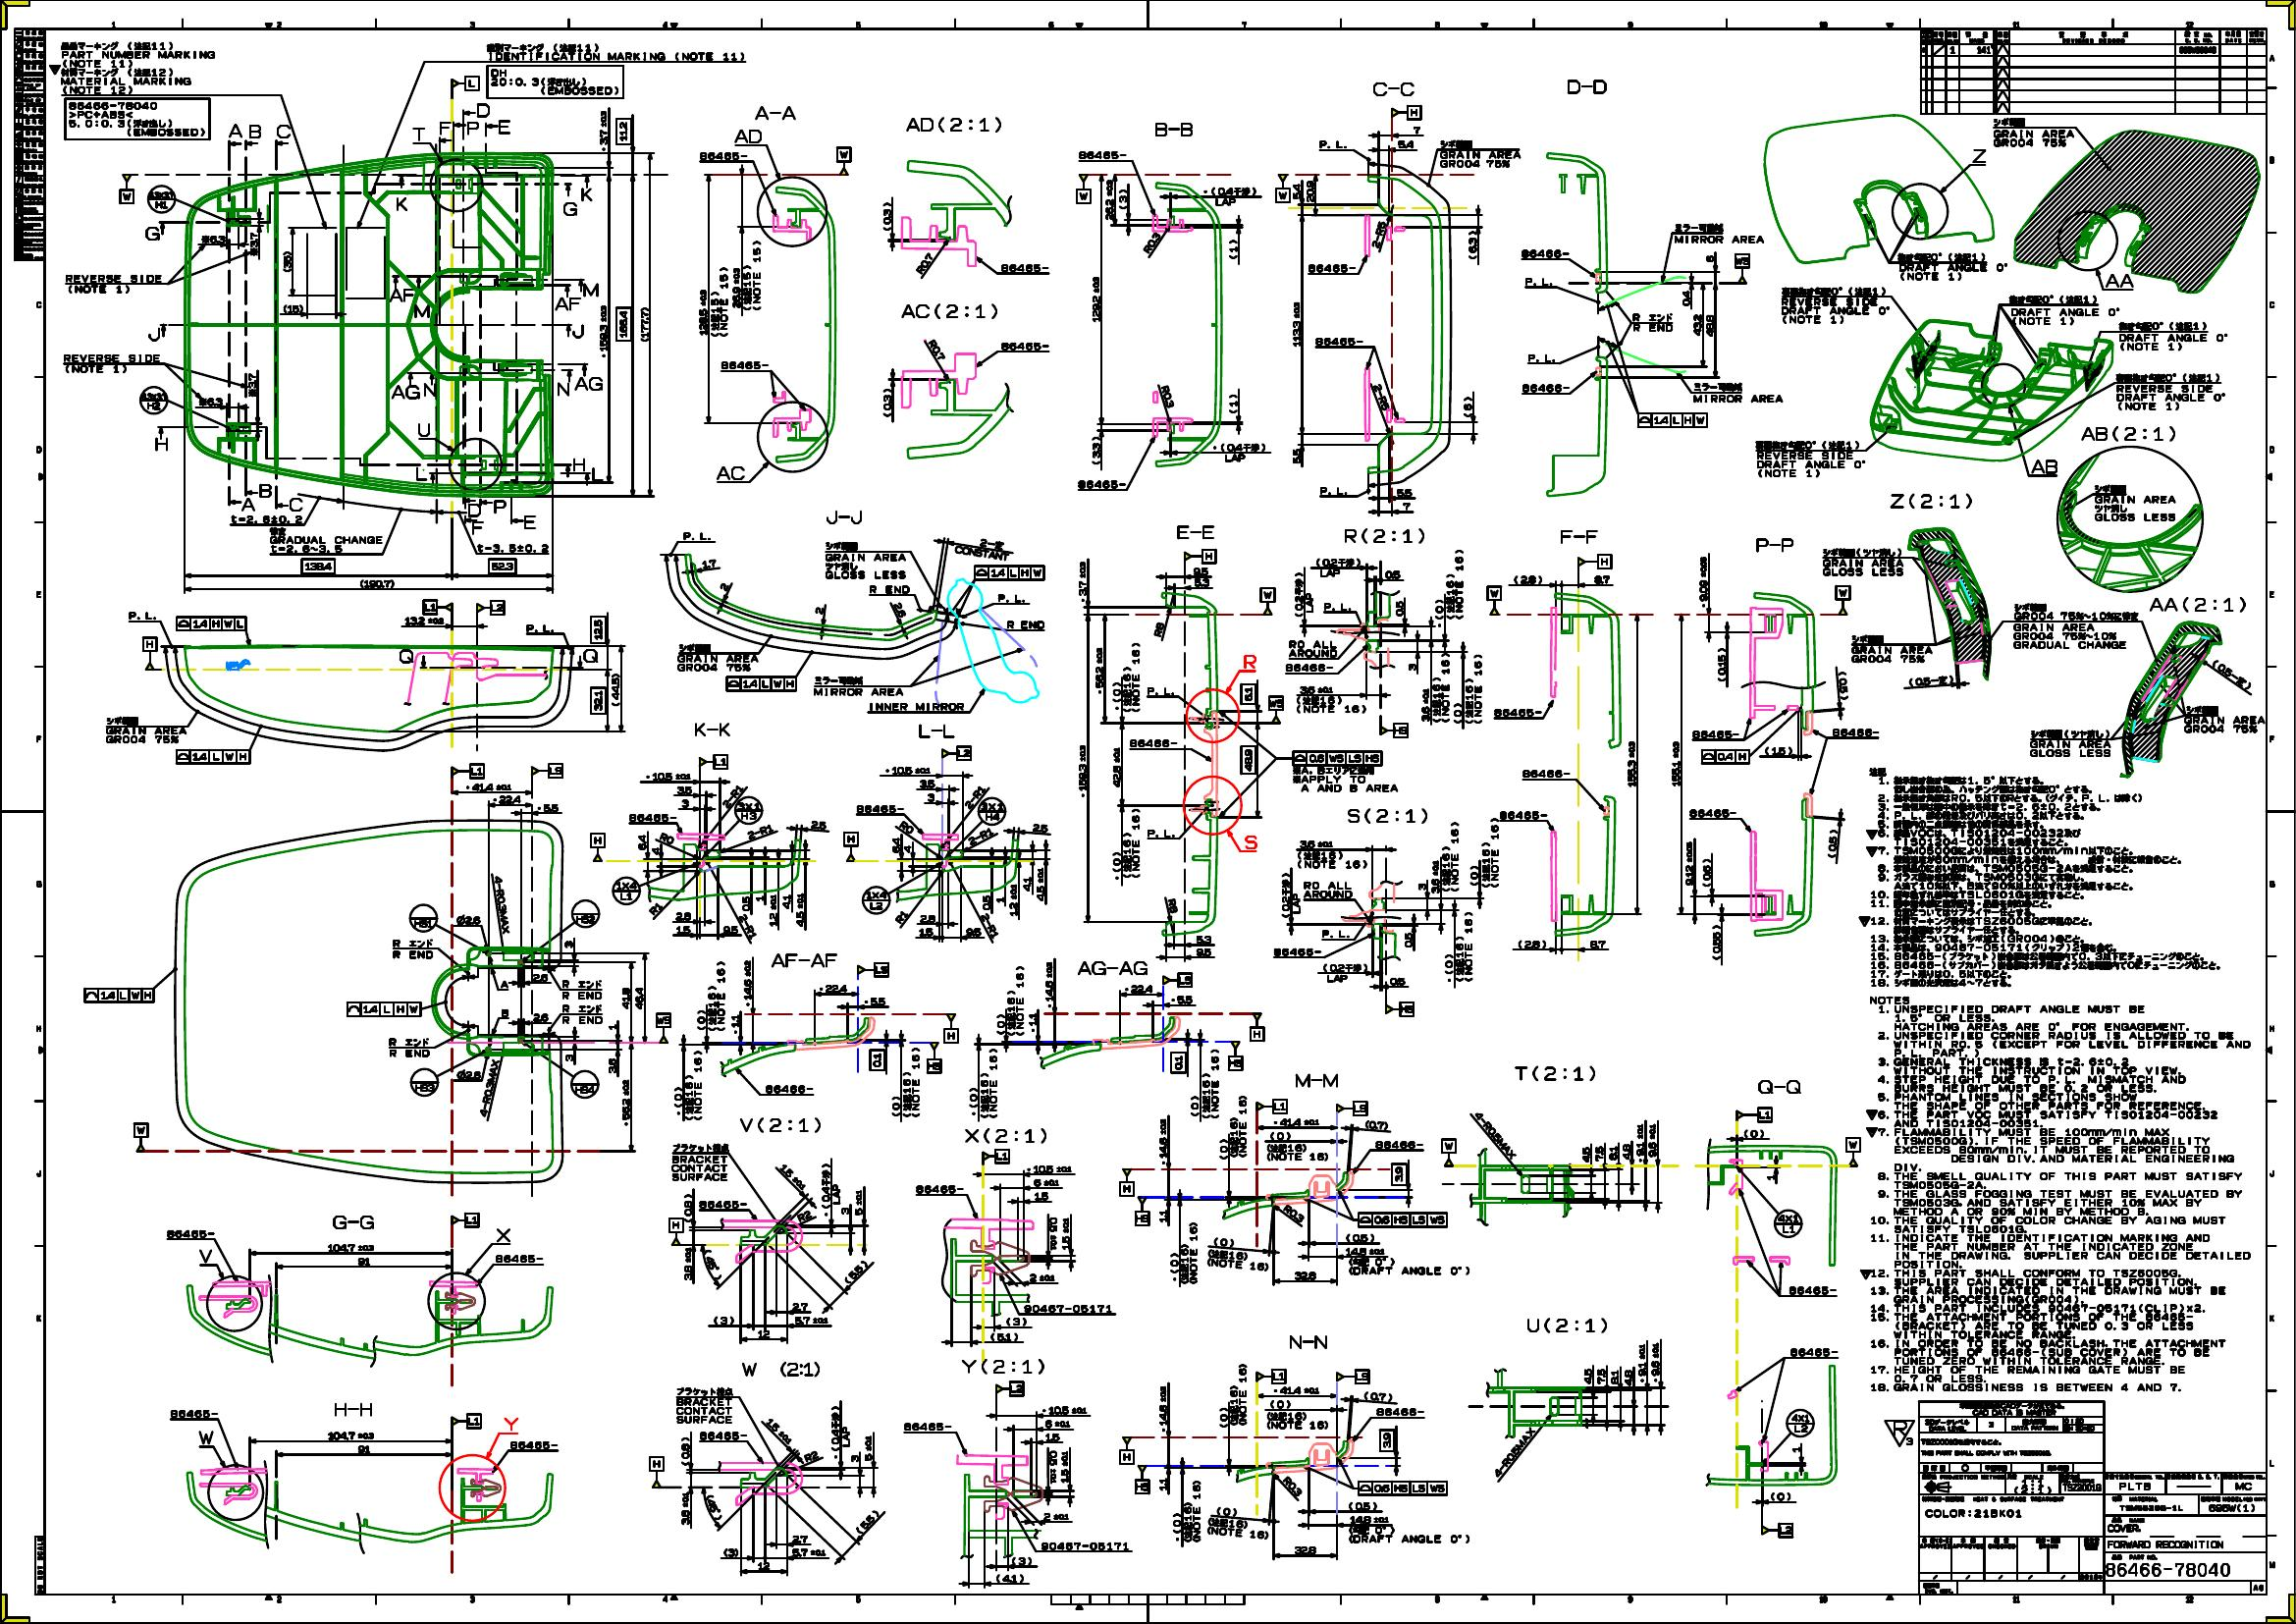anntotation_text: (1864, 995, 2256, 1394), (1855, 763, 2224, 991), (60, 40, 218, 144), (483, 39, 750, 63), (2013, 601, 2141, 650), (1751, 438, 1867, 482), (1780, 283, 1890, 329), (2113, 371, 2231, 413), (483, 62, 624, 97), (2003, 290, 2122, 330), (1894, 251, 2010, 285), (2117, 320, 2231, 353), (2090, 483, 2177, 524), (826, 540, 906, 580), (269, 526, 383, 554), (63, 271, 163, 302), (61, 348, 158, 380), (673, 642, 762, 673), (1293, 766, 1400, 793), (1848, 631, 1932, 664), (1347, 1255, 1479, 1276), (1439, 137, 1521, 170), (1992, 116, 2075, 149), (2076, 422, 2180, 448), (2025, 726, 2112, 758), (2184, 703, 2266, 735), (898, 299, 1003, 323), (899, 112, 1003, 137), (1820, 547, 1903, 576), (1346, 1526, 1472, 1545), (669, 1142, 729, 1183), (1690, 380, 1785, 404), (105, 715, 188, 743), (675, 1385, 734, 1424), (812, 673, 905, 698), (2147, 592, 2247, 615), (1513, 1060, 1599, 1086), (1887, 490, 1976, 515), (1674, 221, 1764, 244), (1340, 526, 1426, 548), (956, 1357, 1047, 1378), (738, 1116, 826, 1137), (1523, 1313, 1609, 1334), (704, 958, 729, 1030), (1444, 547, 1467, 620), (1263, 1408, 1332, 1432), (738, 1359, 824, 1378), (1200, 1048, 1223, 1120), (1479, 817, 1502, 888), (769, 951, 840, 974), (1358, 1211, 1449, 1229), (957, 1127, 1049, 1144), (1005, 965, 1026, 1040), (1075, 958, 1151, 979), (1291, 749, 1381, 766), (708, 264, 729, 337), (1298, 849, 1372, 870), (1121, 640, 1142, 714), (978, 1044, 1000, 1118), (1265, 1141, 1332, 1164), (683, 1049, 704, 1121), (1205, 1251, 1267, 1276), (1347, 807, 1425, 826), (1121, 807, 1142, 877), (1356, 1480, 1448, 1496), (1200, 183, 1258, 207), (1455, 910, 1474, 984), (1296, 696, 1370, 715), (817, 1160, 841, 1218), (1440, 819, 1460, 891), (1463, 652, 1483, 724), (1430, 652, 1449, 722), (743, 237, 761, 313), (346, 1000, 422, 1018), (1212, 439, 1270, 462), (1880, 1415, 1917, 1450), (1207, 1517, 1268, 1538), (1228, 1093, 1247, 1160), (956, 534, 1012, 557), (726, 675, 798, 692), (903, 1046, 921, 1118), (829, 1404, 852, 1459), (1753, 1076, 1806, 1098), (1230, 1359, 1247, 1427), (1182, 1476, 1200, 1545), (1180, 1218, 1198, 1285), (1312, 554, 1360, 578), (1303, 877, 1354, 900), (329, 1209, 379, 1232), (1038, 1540, 1131, 1552), (750, 100, 799, 123), (1291, 571, 1316, 617), (1284, 1329, 1333, 1352), (406, 1067, 441, 1098), (866, 700, 970, 710), (1368, 76, 1416, 98), (1321, 960, 1368, 982), (973, 564, 1042, 580), (1565, 74, 1609, 98), (137, 383, 169, 417), (386, 1035, 432, 1058), (1151, 120, 1200, 141), (1286, 638, 1339, 657), (83, 986, 155, 1000), (408, 900, 439, 932), (1021, 1302, 1116, 1313), (1771, 1207, 1804, 1237), (1637, 411, 1708, 425), (1291, 1069, 1342, 1088), (176, 615, 244, 629), (390, 939, 436, 960), (560, 977, 603, 1000), (146, 183, 177, 213), (569, 1067, 599, 1098), (1783, 1408, 1815, 1438), (1279, 874, 1300, 917), (560, 1004, 604, 1025), (1750, 534, 1797, 554), (466, 898, 539, 910), (610, 875, 639, 905), (569, 898, 599, 928), (1463, 1128, 1527, 1142), (1484, 1445, 1548, 1459), (453, 1083, 525, 1095), (822, 508, 868, 527), (177, 749, 248, 761), (977, 796, 1007, 824), (863, 884, 891, 914), (733, 796, 762, 824), (1630, 311, 1672, 330), (1173, 522, 1216, 541), (1700, 749, 1750, 765), (330, 1401, 374, 1418), (1312, 334, 1367, 348), (1827, 724, 1881, 738), (692, 721, 731, 740), (1075, 476, 1128, 490), (2025, 455, 2061, 476), (1374, 1137, 1426, 1151), (998, 339, 1049, 353), (697, 1195, 748, 1209), (901, 1418, 952, 1432), (1787, 1345, 1845, 1357), (1497, 810, 1551, 823), (163, 1227, 218, 1239), (915, 722, 957, 738), (35, 1534, 46, 1596), (996, 260, 1049, 272), (1077, 148, 1130, 160), (1518, 381, 1570, 394), (1491, 705, 1544, 717), (508, 1439, 560, 1452), (448, 1411, 485, 1429), (167, 1406, 220, 1418), (1558, 527, 1599, 543), (1521, 248, 1572, 260), (913, 1183, 964, 1195), (495, 1251, 546, 1264), (1374, 1404, 1425, 1417), (697, 1429, 748, 1441), (1688, 807, 1739, 819), (1734, 1107, 1773, 1123), (699, 149, 748, 162), (722, 359, 771, 371), (1274, 944, 1323, 956), (715, 464, 748, 482), (141, 634, 158, 668), (1788, 1285, 1836, 1297), (762, 1083, 817, 1093), (868, 582, 913, 594), (1384, 1000, 1416, 1018), (531, 763, 562, 780), (1133, 1195, 1151, 1227), (980, 1146, 1012, 1164), (1003, 619, 1047, 631), (1690, 729, 1741, 740), (1128, 738, 1179, 749), (856, 803, 906, 814), (2103, 272, 2136, 288), (1760, 1522, 1794, 1538), (1337, 1367, 1370, 1383), (450, 74, 480, 91), (841, 831, 859, 861), (926, 1042, 943, 1072), (1254, 1366, 1284, 1383), (994, 1380, 1024, 1397), (1307, 262, 1356, 272), (1312, 137, 1349, 151), (629, 812, 678, 823), (1333, 1102, 1370, 1116), (1075, 172, 1091, 204), (942, 743, 973, 759), (450, 1213, 481, 1229), (648, 1455, 664, 1487), (1117, 1167, 1135, 1195), (1275, 172, 1291, 202), (655, 1012, 671, 1042), (857, 961, 887, 977), (1133, 1464, 1149, 1494), (1834, 587, 1850, 617), (1318, 483, 1351, 497), (1734, 251, 1748, 285), (1184, 548, 1217, 562), (450, 763, 483, 777), (1254, 1098, 1288, 1113), (736, 127, 762, 144), (1520, 768, 1572, 777), (272, 121, 293, 142), (411, 301, 432, 322), (1579, 554, 1611, 568), (1260, 587, 1275, 615), (476, 599, 504, 615), (422, 599, 453, 613), (134, 1123, 149, 1151), (1228, 1040, 1242, 1072), (1440, 1139, 1456, 1167), (1523, 274, 1558, 286), (1391, 105, 1421, 120), (1486, 585, 1500, 615), (1321, 926, 1351, 940), (1163, 974, 1193, 988), (1846, 1135, 1860, 1165), (668, 1216, 682, 1246), (1381, 722, 1407, 738), (1268, 696, 1284, 722), (121, 172, 134, 206), (1527, 352, 1560, 364), (1145, 684, 1179, 696), (144, 325, 163, 346), (1969, 144, 1989, 165), (494, 1225, 515, 1244), (197, 1244, 216, 1265), (499, 1413, 518, 1434), (590, 833, 604, 861), (943, 1014, 957, 1042), (1249, 1014, 1263, 1042), (1119, 1436, 1133, 1464), (699, 754, 727, 768), (1144, 826, 1175, 838), (996, 591, 1028, 603), (682, 529, 713, 541), (1281, 664, 1335, 671), (144, 223, 162, 244), (1319, 599, 1354, 610), (469, 518, 487, 538), (587, 374, 604, 394), (404, 383, 422, 402), (415, 420, 432, 439), (569, 322, 587, 341), (580, 281, 599, 299), (553, 295, 571, 315), (1240, 652, 1258, 671), (153, 434, 169, 455), (497, 116, 513, 137), (838, 144, 848, 176), (523, 624, 555, 634), (128, 610, 158, 620), (581, 647, 599, 664), (197, 1429, 214, 1446), (466, 501, 481, 520), (573, 374, 588, 394), (422, 380, 437, 399), (411, 125, 427, 144), (560, 200, 580, 216), (260, 482, 274, 503), (286, 497, 304, 513), (522, 513, 538, 531), (555, 380, 571, 397), (388, 383, 406, 399), (399, 286, 416, 302), (474, 98, 490, 116), (397, 649, 415, 664), (388, 285, 402, 304), (437, 118, 451, 137), (228, 121, 244, 137), (246, 123, 262, 139), (464, 120, 480, 135), (239, 497, 256, 511), (1244, 833, 1258, 851), (395, 193, 408, 213), (492, 499, 508, 513), (571, 457, 587, 471), (566, 295, 581, 309), (580, 186, 594, 202), (415, 466, 429, 482), (590, 466, 604, 482), (499, 979, 511, 990), (499, 1007, 511, 1018)
dimension_text: (474, 540, 550, 554), (228, 513, 304, 524), (1075, 742, 1089, 798), (1903, 675, 1953, 689), (1272, 1381, 1321, 1396), (596, 302, 608, 359), (1697, 554, 1709, 608), (1042, 1403, 1089, 1417), (1669, 736, 1681, 789), (1091, 643, 1103, 696), (741, 958, 754, 1009), (696, 286, 708, 337), (1418, 685, 1433, 724), (1156, 1383, 1168, 1432), (729, 264, 741, 313), (615, 306, 632, 339), (1110, 743, 1123, 791), (1108, 847, 1124, 884), (2210, 668, 2250, 682), (358, 575, 397, 589), (402, 613, 446, 626), (302, 559, 336, 575), (1238, 745, 1256, 775), (1043, 960, 1054, 1009), (620, 1077, 631, 1127), (1158, 1116, 1168, 1165), (327, 1243, 376, 1253), (1058, 1446, 1072, 1483), (1683, 838, 1693, 888), (645, 770, 694, 780), (884, 765, 931, 775), (327, 1431, 374, 1441), (1089, 274, 1100, 322), (1289, 301, 1300, 348), (1516, 935, 1548, 951), (1344, 1244, 1384, 1257), (1428, 856, 1440, 896), (588, 685, 606, 714), (488, 557, 516, 575), (1365, 390, 1400, 404), (597, 107, 608, 153), (1836, 668, 1850, 701), (1440, 953, 1455, 986), (615, 118, 632, 144), (1103, 178, 1114, 221), (1077, 561, 1087, 605), (1298, 835, 1335, 847), (682, 1244, 694, 1281), (1709, 923, 1722, 960), (1270, 1116, 1321, 1125), (1627, 738, 1635, 789), (590, 615, 606, 643), (1635, 1341, 1646, 1383), (1650, 1341, 1660, 1383), (1363, 1388, 1395, 1403), (1347, 1513, 1390, 1524), (464, 782, 513, 791), (773, 1171, 808, 1183), (678, 1490, 690, 1526), (1716, 643, 1727, 684), (697, 1499, 727, 1513), (817, 982, 850, 995), (682, 1192, 694, 1225), (1467, 228, 1479, 262), (766, 895, 778, 928), (792, 893, 805, 926), (1059, 1213, 1070, 1251), (1047, 1214, 1058, 1253), (639, 306, 650, 344), (1170, 1051, 1188, 1074), (1026, 1165, 1072, 1174), (1344, 1232, 1375, 1244), (792, 1315, 829, 1325), (791, 1547, 827, 1557), (678, 1436, 690, 1468), (759, 1425, 796, 1436), (1511, 573, 1548, 584), (1008, 882, 1019, 917), (1035, 866, 1045, 902), (455, 912, 481, 926), (611, 671, 622, 707), (1767, 1489, 1794, 1503), (1379, 1429, 1397, 1450), (1047, 1450, 1058, 1485), (1149, 390, 1184, 401), (1700, 856, 1711, 891), (1449, 698, 1463, 724), (994, 1571, 1024, 1584), (1042, 1508, 1072, 1520), (880, 387, 892, 417), (1363, 228, 1393, 241), (1391, 1162, 1407, 1185), (1212, 1234, 1235, 1250), (1240, 682, 1256, 705), (1298, 684, 1339, 692), (1170, 1510, 1180, 1543), (882, 199, 892, 232), (1110, 680, 1121, 714), (1743, 1127, 1767, 1141), (1028, 1271, 1056, 1283), (246, 230, 258, 258), (1634, 1123, 1643, 1162), (490, 793, 522, 803), (989, 1330, 1021, 1341), (1089, 434, 1100, 466), (1760, 743, 1792, 754), (717, 789, 748, 800), (1648, 1123, 1657, 1160), (1363, 1120, 1390, 1132), (1226, 236, 1238, 262), (1303, 178, 1316, 204), (1123, 982, 1152, 993), (1168, 1251, 1179, 1281), (697, 1258, 727, 1269), (921, 344, 950, 355), (1825, 828, 1836, 858), (745, 826, 775, 837), (1279, 1480, 1303, 1492), (1188, 1093, 1200, 1118), (863, 995, 887, 1007), (632, 986, 645, 1011), (618, 986, 631, 1011), (457, 1067, 481, 1079), (711, 1313, 736, 1325), (1217, 1404, 1230, 1429), (1138, 237, 1163, 250), (1226, 390, 1238, 415), (870, 1049, 884, 1070), (1031, 1176, 1059, 1186), (892, 599, 906, 620), (733, 923, 761, 933), (673, 1084, 682, 1118), (1435, 598, 1444, 631), (789, 1531, 812, 1543), (281, 251, 293, 274), (1460, 395, 1472, 418), (968, 1086, 977, 1118), (1291, 1269, 1318, 1280), (1268, 1397, 1295, 1408), (1216, 1506, 1242, 1517), (1045, 1418, 1072, 1429), (854, 1517, 880, 1527), (908, 262, 940, 271), (1469, 861, 1479, 888), (959, 793, 989, 801), (1347, 1501, 1377, 1510), (996, 1012, 1007, 1037), (536, 801, 560, 812), (1219, 1137, 1230, 1162), (1281, 1207, 1305, 1218), (1003, 1315, 1028, 1325), (1293, 1545, 1318, 1555), (199, 395, 223, 406), (1386, 975, 1411, 986), (1193, 933, 1214, 946), (975, 921, 1003, 930), (854, 1188, 863, 1216), (841, 1267, 870, 1276), (863, 1434, 871, 1462), (1170, 993, 1193, 1004), (1010, 1555, 1033, 1566), (1692, 313, 1702, 336), (1154, 617, 1165, 640), (1026, 1012, 1038, 1032), (1191, 564, 1210, 576), (966, 831, 993, 840), (248, 373, 256, 399), (1704, 313, 1713, 339), (281, 302, 302, 313), (1116, 188, 1126, 209), (655, 831, 676, 842), (1021, 875, 1033, 893), (891, 1093, 899, 1118), (696, 1009, 704, 1033), (1579, 1144, 1592, 1162), (202, 236, 227, 244), (1043, 1431, 1063, 1441), (1395, 137, 1414, 148), (1593, 573, 1613, 584), (1588, 939, 1607, 949), (1393, 599, 1404, 619), (1193, 576, 1212, 587), (1404, 928, 1412, 951), (532, 1009, 548, 1021), (722, 1547, 738, 1559), (722, 923, 738, 935), (810, 819, 826, 831), (1031, 823, 1049, 833), (919, 779, 936, 789), (1609, 1146, 1620, 1164), (1270, 1130, 1291, 1139), (1158, 1207, 1168, 1225), (796, 1211, 813, 1222), (791, 1301, 808, 1311), (1621, 1367, 1632, 1385), (355, 1443, 372, 1454), (1681, 288, 1690, 309), (1166, 896, 1177, 914), (1195, 946, 1212, 956), (646, 903, 664, 914), (673, 923, 690, 933), (780, 893, 791, 910), (1593, 1144, 1602, 1164), (1621, 1142, 1630, 1162), (697, 559, 717, 568), (917, 926, 933, 937), (964, 924, 980, 935), (606, 1058, 617, 1074), (532, 972, 548, 982), (1033, 1190, 1049, 1200), (1291, 448, 1302, 464), (675, 910, 690, 921), (919, 914, 936, 923), (1583, 1367, 1592, 1385), (1597, 1367, 1606, 1385), (636, 833, 645, 851), (731, 1012, 738, 1033), (982, 895, 991, 910), (891, 837, 899, 852), (1609, 1369, 1618, 1385), (1384, 568, 1400, 576), (741, 895, 750, 910), (994, 893, 1005, 905), (1765, 1172, 1776, 1185), (1158, 1478, 1168, 1490), (1400, 499, 1412, 510), (1411, 123, 1421, 135), (1405, 663, 1418, 673), (813, 605, 824, 617), (717, 580, 729, 591), (899, 823, 913, 831), (891, 916, 908, 923), (757, 1329, 771, 1338), (357, 1257, 371, 1265), (757, 1561, 771, 1570), (803, 1452, 817, 1461), (1293, 181, 1300, 199), (676, 784, 690, 793), (926, 791, 936, 801), (562, 939, 573, 949), (1790, 1445, 1801, 1455), (1397, 489, 1412, 496), (1704, 253, 1715, 264), (1416, 881, 1426, 891), (564, 1053, 574, 1062), (840, 1206, 848, 1216), (848, 1454, 859, 1462), (650, 844, 659, 854), (755, 895, 766, 903), (608, 1023, 617, 1032), (680, 798, 689, 807), (903, 844, 913, 851)
object: (172, 819, 566, 1183), (183, 151, 553, 499), (662, 554, 1042, 707), (1546, 149, 1688, 499), (162, 643, 578, 752), (2013, 127, 2261, 295), (1760, 112, 1997, 265), (1867, 316, 2115, 462), (896, 160, 1015, 459), (186, 1278, 553, 1360), (183, 1464, 557, 1545), (1360, 162, 1453, 485), (1548, 591, 1623, 939), (2054, 445, 2208, 596), (1748, 589, 1813, 937), (1147, 179, 1224, 469), (1159, 589, 1217, 935), (771, 183, 836, 466), (2119, 620, 2224, 779), (1706, 1142, 1839, 1267), (1706, 1362, 1838, 1487), (1903, 526, 1994, 680), (646, 831, 803, 905), (936, 1216, 1036, 1318), (722, 1011, 877, 1074), (954, 1450, 1038, 1559), (894, 831, 1021, 902), (1035, 1011, 1182, 1069), (1469, 1146, 1574, 1223), (1483, 1369, 1586, 1438), (1231, 1438, 1356, 1485), (1337, 877, 1400, 961), (1330, 589, 1397, 666), (717, 1459, 805, 1506), (720, 1216, 805, 1264)
title_block: (1918, 1399, 2266, 1596), (1918, 28, 2268, 114), (12, 26, 46, 262)
